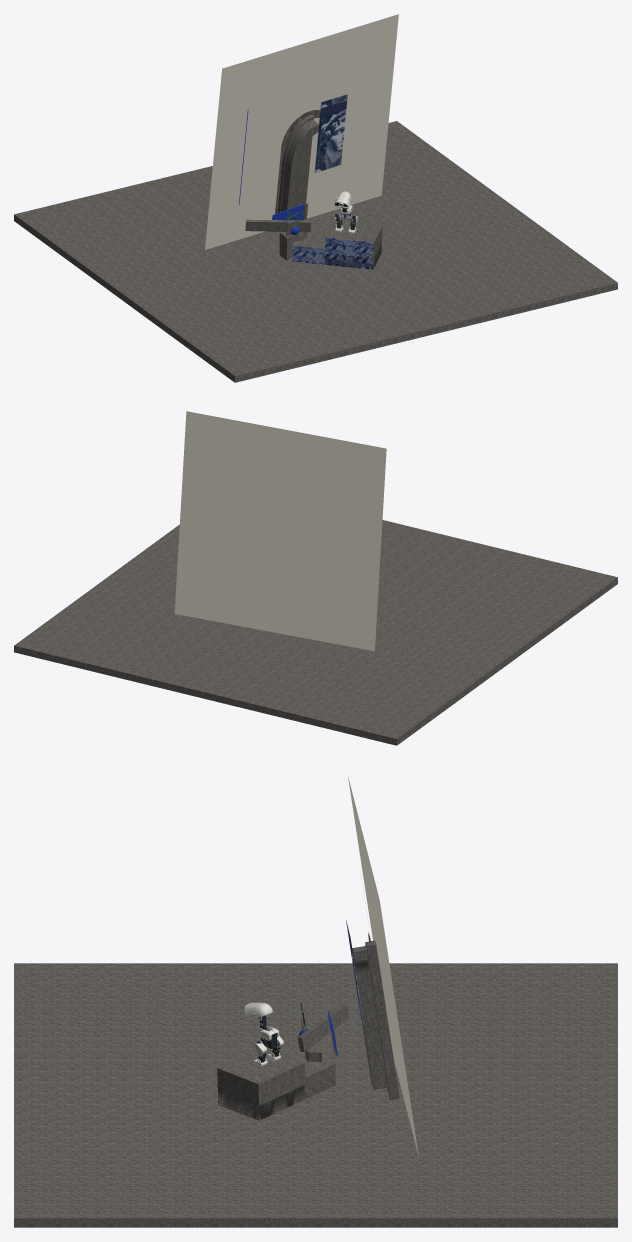
File: day-set.glb
The picture shows the model from 3 angles, top to bottom: view 1: azimuth 30°, elevation 25°; view 2: azimuth 150°, elevation 25°; view 3: azimuth 270°, elevation 25°; orthographic projection. The views are drawn at different scales.
Visible parts, largest first — view 1: Studio floor, Studio back, Hero limestone, DL arch r02, Classical print, DL front grey block, Architectural shadow former, Banner through top edge; view 2: Studio floor, Studio back; view 3: Studio floor, Hero limestone, DL arch r02, Studio back, DL front grey block.
Part boxes in pixels (x1=…): Studio floor: x1=14, y1=121, x2=617, y2=382; Studio back: x1=205, y1=14, x2=398, y2=249; Hero limestone: x1=292, y1=221, x2=382, y2=269; DL arch r02: x1=277, y1=115, x2=318, y2=232; Classical print: x1=314, y1=109, x2=346, y2=172; DL front grey block: x1=245, y1=219, x2=311, y2=232; Architectural shadow former: x1=273, y1=110, x2=320, y2=232; Banner through top edge: x1=319, y1=94, x2=347, y2=123; Studio floor: x1=14, y1=520, x2=617, y2=745; Studio back: x1=174, y1=411, x2=386, y2=651; Studio floor: x1=14, y1=963, x2=617, y2=1227; Hero limestone: x1=217, y1=1047, x2=335, y2=1120; DL arch r02: x1=352, y1=940, x2=399, y2=1099; Studio back: x1=348, y1=776, x2=418, y2=1157; DL front grey block: x1=297, y1=1004, x2=349, y2=1051.
Bounding box in the file's own units: 3 × 1.7 × 3.
27 materials, 9 textured.
